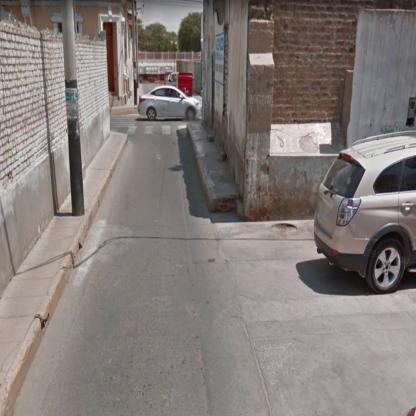Pista: (14, 110, 415, 415)
Vehiculo: (314, 129, 416, 293), (139, 86, 202, 122)
